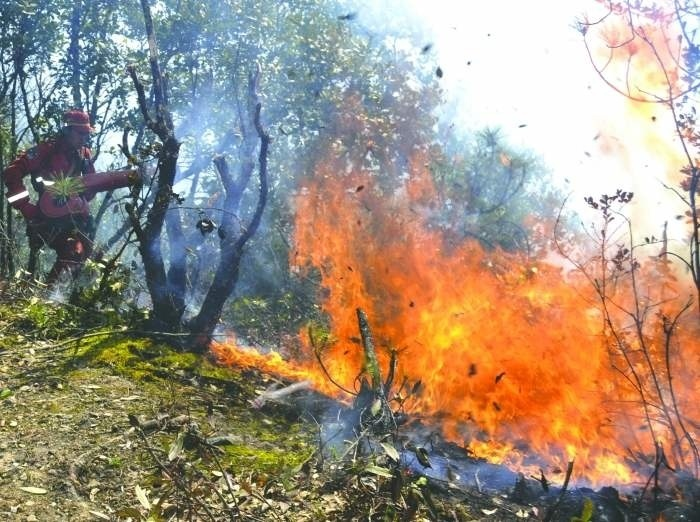fire: (280, 147, 692, 488)
